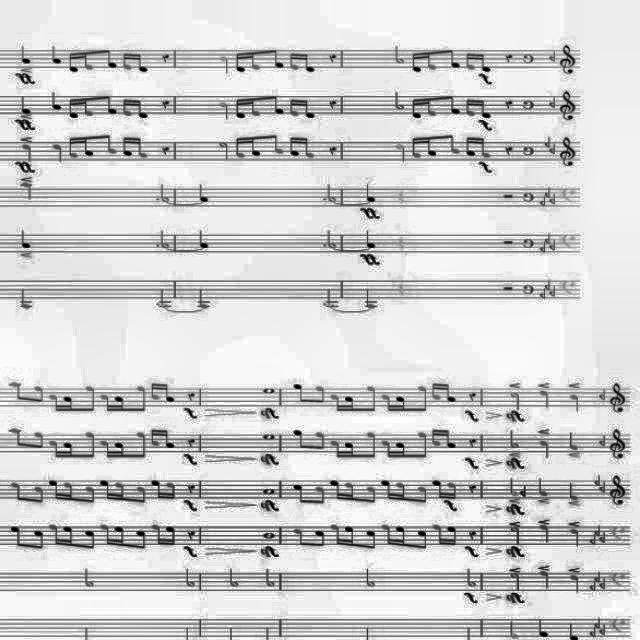Bass-clef: (612, 562, 636, 600), (562, 223, 586, 257), (612, 608, 636, 640), (612, 519, 636, 549), (564, 272, 584, 306), (564, 181, 582, 211)
Bemol: (584, 570, 600, 598), (545, 88, 559, 116), (596, 382, 608, 406), (548, 44, 558, 72), (585, 528, 599, 548), (591, 519, 605, 537), (598, 432, 610, 452), (596, 576, 608, 596), (596, 479, 608, 497), (520, 477, 528, 503), (594, 565, 604, 585), (546, 270, 554, 294), (539, 282, 547, 306), (593, 470, 601, 494), (598, 531, 610, 547), (550, 282, 560, 300), (543, 185, 555, 199), (542, 231, 554, 245), (544, 132, 552, 152), (589, 622, 599, 638), (594, 612, 602, 632), (548, 240, 560, 253), (552, 136, 558, 160), (553, 190, 559, 212), (540, 194, 548, 210), (600, 620, 608, 636), (542, 241, 546, 255)
Eighth-note: (83, 368, 103, 412), (288, 366, 308, 406), (315, 368, 333, 408), (28, 520, 48, 556), (364, 375, 380, 417), (445, 38, 461, 78), (446, 88, 466, 120), (270, 126, 286, 166), (132, 420, 148, 460), (362, 474, 378, 512), (82, 423, 98, 461), (288, 419, 308, 449), (102, 84, 118, 120), (268, 90, 286, 122), (101, 128, 119, 160), (34, 468, 46, 516), (6, 516, 22, 552), (448, 121, 462, 162), (134, 377, 148, 415), (415, 374, 427, 418), (416, 513, 428, 555), (8, 469, 24, 499), (418, 421, 429, 462), (271, 40, 285, 72), (362, 518, 376, 550), (36, 366, 46, 410), (316, 475, 330, 505), (291, 468, 301, 510), (313, 428, 333, 448), (316, 516, 330, 544), (367, 423, 377, 461), (5, 422, 22, 444), (13, 367, 27, 393), (295, 518, 305, 550), (418, 478, 428, 508), (109, 42, 118, 74), (34, 420, 46, 444)
Eighth-rest: (324, 130, 341, 162), (156, 138, 174, 162), (500, 50, 516, 74), (161, 91, 175, 117), (466, 382, 480, 406), (183, 478, 199, 498), (461, 434, 479, 451), (330, 44, 342, 68), (158, 46, 170, 70), (184, 432, 200, 450), (467, 480, 479, 504), (184, 383, 198, 403), (185, 526, 199, 546), (505, 95, 515, 122), (328, 95, 340, 116), (468, 524, 480, 542), (504, 141, 514, 159)
Full-note: (260, 374, 276, 402), (257, 478, 275, 498), (256, 524, 276, 542), (253, 426, 274, 442)
Half-note: (358, 554, 394, 590), (214, 88, 238, 124), (76, 556, 94, 602), (390, 28, 410, 68), (502, 380, 530, 408), (214, 44, 232, 84), (499, 616, 529, 640), (224, 556, 242, 594), (180, 558, 204, 586), (462, 564, 482, 596), (391, 126, 404, 170), (392, 84, 408, 118), (326, 176, 342, 208), (504, 470, 520, 498), (161, 224, 175, 256), (161, 174, 171, 216), (508, 425, 524, 451), (327, 223, 339, 253), (510, 567, 526, 589), (509, 519, 523, 543), (264, 562, 276, 590), (217, 132, 227, 156)
Half-rest: (490, 217, 518, 256), (497, 175, 519, 209), (497, 276, 519, 302)
Quarter-note: (7, 268, 46, 320), (187, 225, 217, 259), (4, 224, 36, 253), (536, 424, 558, 464), (195, 166, 211, 218), (53, 31, 71, 73), (538, 556, 556, 596), (356, 220, 380, 250), (568, 468, 584, 509), (564, 424, 580, 464), (13, 40, 39, 64), (363, 284, 385, 312), (50, 128, 64, 170), (195, 278, 208, 320), (539, 604, 553, 640), (568, 564, 580, 604), (16, 138, 40, 158), (570, 380, 584, 412), (49, 81, 62, 115), (20, 176, 42, 196), (363, 182, 381, 205), (538, 512, 550, 546), (538, 374, 548, 414), (567, 518, 581, 546), (18, 89, 34, 113), (538, 472, 550, 500), (574, 616, 584, 640)
Sixteenth-note: (112, 518, 130, 554), (443, 377, 463, 408), (162, 424, 182, 452), (424, 129, 440, 163), (394, 517, 410, 551), (302, 46, 320, 76), (289, 132, 307, 162), (233, 128, 247, 164), (161, 372, 175, 408), (63, 520, 81, 548), (150, 372, 166, 403), (62, 135, 78, 165), (102, 510, 114, 550), (44, 514, 58, 548), (429, 371, 441, 409), (383, 511, 395, 549), (134, 130, 150, 158), (150, 420, 166, 448), (115, 471, 129, 502), (134, 97, 152, 121), (166, 514, 178, 550), (63, 475, 77, 505), (344, 474, 358, 502), (478, 50, 494, 74), (410, 44, 422, 76), (48, 428, 60, 460), (450, 474, 462, 506), (344, 516, 356, 548), (332, 511, 342, 549), (152, 471, 164, 502), (446, 424, 458, 454), (398, 472, 410, 502), (152, 514, 162, 550), (81, 96, 95, 120), (121, 132, 135, 156), (386, 474, 398, 502), (347, 434, 359, 462), (136, 51, 148, 78), (290, 95, 302, 122), (101, 468, 111, 500), (383, 438, 393, 470), (290, 47, 302, 73), (480, 96, 492, 122), (463, 94, 475, 120), (234, 99, 246, 125), (334, 432, 344, 463), (462, 50, 473, 78), (433, 519, 443, 549), (121, 48, 133, 72), (302, 98, 314, 122), (120, 95, 132, 119), (412, 130, 421, 162), (330, 474, 342, 498), (118, 434, 130, 458), (448, 522, 460, 546), (427, 94, 438, 120), (426, 46, 436, 74), (84, 46, 94, 74), (463, 132, 473, 160), (50, 389, 60, 417), (398, 392, 410, 414), (168, 475, 178, 501), (235, 48, 243, 80), (304, 134, 312, 166), (411, 96, 421, 120), (251, 136, 261, 160), (384, 388, 394, 412), (104, 389, 112, 419), (65, 388, 75, 412), (435, 474, 445, 498), (61, 437, 74, 455), (51, 471, 60, 497), (250, 46, 258, 74), (70, 47, 78, 75), (68, 92, 76, 120), (481, 138, 492, 158), (397, 436, 408, 456), (329, 394, 338, 418), (114, 391, 126, 409), (431, 426, 441, 446), (82, 136, 90, 160), (100, 434, 108, 458), (250, 96, 258, 118), (347, 392, 355, 412)
Treble-clef: (558, 27, 586, 82), (608, 374, 636, 418), (558, 88, 584, 132), (609, 468, 635, 508), (560, 134, 582, 174), (613, 431, 631, 461)
